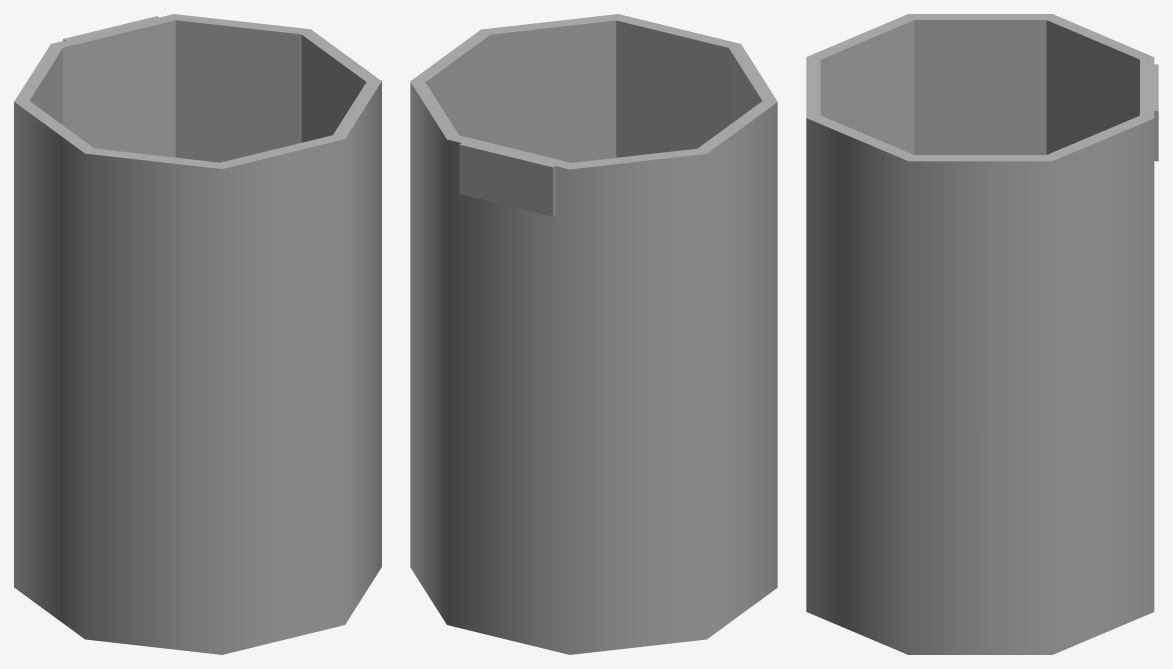
The model's file is Itr_Trashcan4_Body_02.FBX.
3 renders of one model, left to right at view 1: azimuth 30°, elevation 25°; view 2: azimuth 150°, elevation 25°; view 3: azimuth 270°, elevation 25°, orthographic.
Parts seen in each view (by area): view 1: Itr_Trashcan4_Body_02; view 2: Itr_Trashcan4_Body_02; view 3: Itr_Trashcan4_Body_02.
Part boxes in pixels (<box>): Itr_Trashcan4_Body_02: <box>14,14,381,654</box>; Itr_Trashcan4_Body_02: <box>410,14,777,654</box>; Itr_Trashcan4_Body_02: <box>806,14,1158,654</box>.
Bounding box in the file's own units: 12.01 × 18.79 × 12.15.
